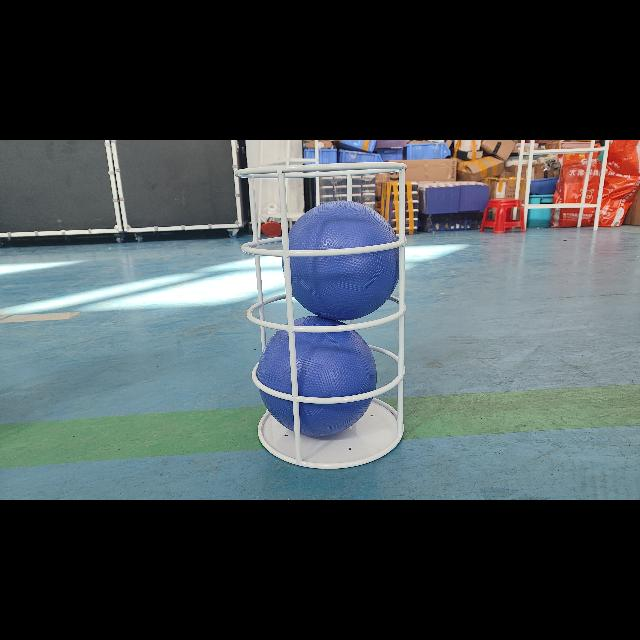B: (283, 200, 402, 322), (258, 316, 376, 438)
S: (229, 155, 415, 473)
